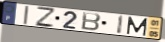2: (61, 9, 80, 30)
B: (80, 11, 102, 32)
I: (117, 14, 126, 36), (23, 5, 30, 25)
M: (126, 16, 149, 37)
Z: (34, 5, 55, 28)
